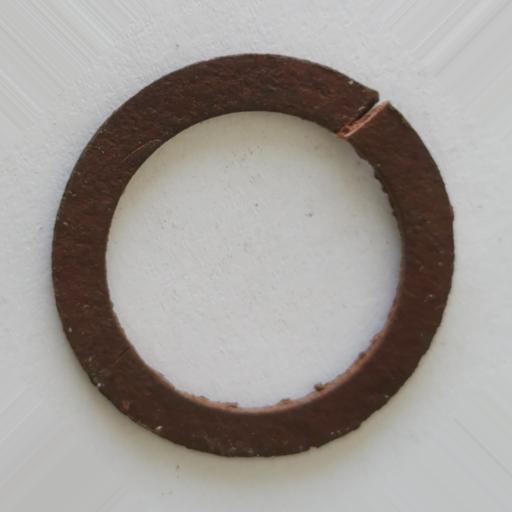defect: (337, 99, 388, 140), (118, 140, 163, 169), (110, 346, 133, 371)
